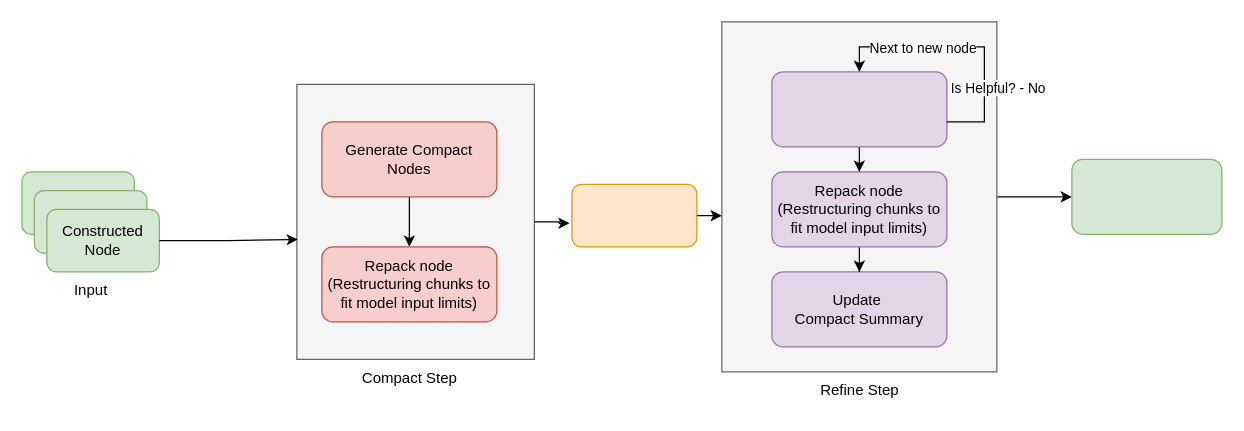
This 1244x431 diagram has some shape labels left out. The centre of each missing label's shape, as x and y in pixels:
Compact Summary: (634,215)
Final Output: (1146,196)
Generate Prompt Refine (from Compact Summary + Current Answer): (859,109)
